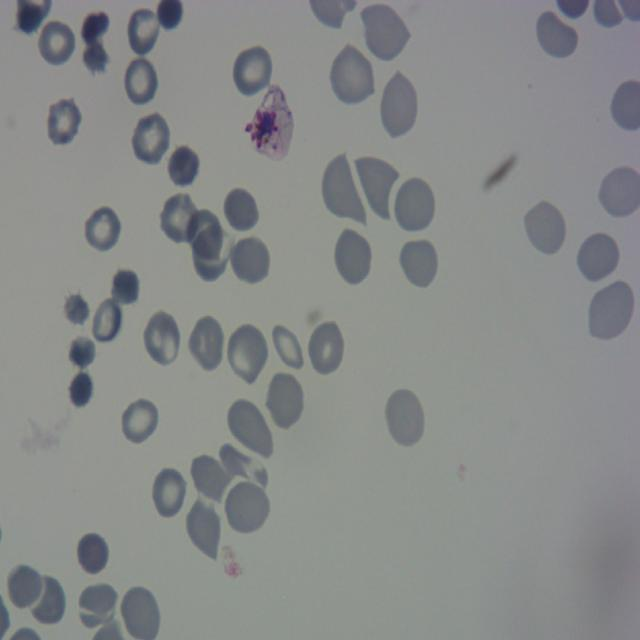leukocyte: (353, 154, 404, 220), (320, 152, 366, 225), (360, 0, 411, 63), (586, 280, 636, 344), (328, 42, 377, 107), (228, 396, 275, 460), (224, 322, 269, 387), (379, 70, 419, 140), (383, 386, 426, 449), (392, 175, 437, 235), (523, 198, 568, 258), (574, 230, 622, 285), (332, 226, 374, 287), (264, 370, 306, 431), (142, 308, 183, 369), (231, 43, 274, 100), (184, 497, 223, 559), (306, 318, 346, 378), (130, 110, 172, 167), (225, 481, 269, 535), (534, 7, 578, 61), (158, 194, 202, 248), (187, 314, 227, 373), (25, 572, 67, 627), (118, 588, 162, 640), (82, 202, 125, 255), (398, 236, 440, 290), (120, 394, 162, 448), (74, 581, 119, 631), (120, 54, 160, 110), (228, 234, 271, 286), (150, 465, 189, 521), (194, 222, 230, 282), (36, 17, 77, 69), (221, 184, 261, 237), (45, 95, 84, 149), (186, 207, 224, 261), (126, 3, 162, 60), (5, 562, 46, 612), (190, 453, 232, 499), (165, 143, 200, 193), (270, 319, 303, 369), (91, 296, 123, 346), (75, 533, 108, 575), (66, 332, 99, 374), (106, 270, 141, 308), (82, 39, 111, 80), (66, 366, 94, 408), (62, 292, 90, 330)
ring: (242, 84, 296, 164)
